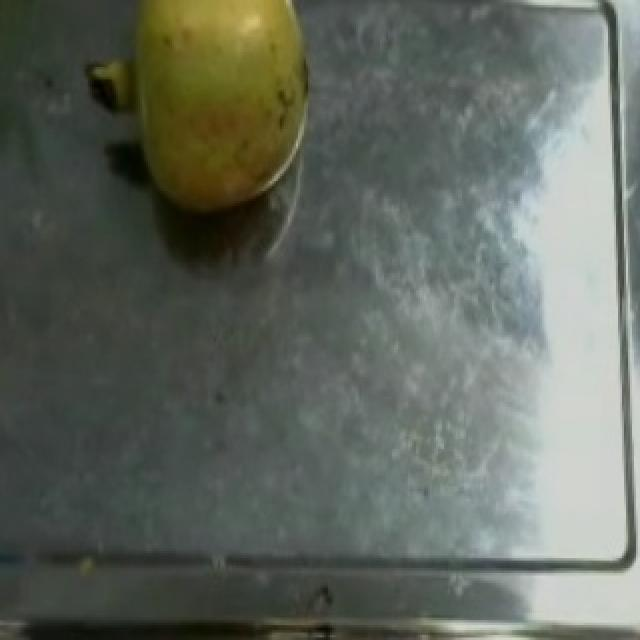fruit: (78, 0, 344, 246)
